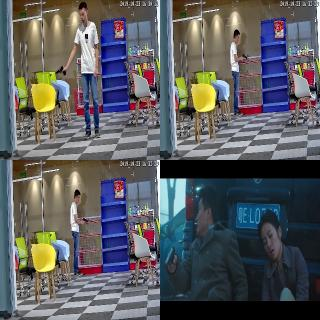gun: (163, 244, 176, 273), (54, 64, 68, 80), (240, 54, 248, 62), (82, 216, 88, 226)
